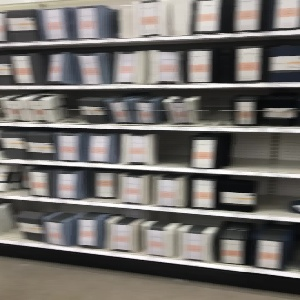void: (223, 134, 300, 170), (256, 177, 300, 215), (196, 89, 232, 129), (155, 131, 191, 167)
